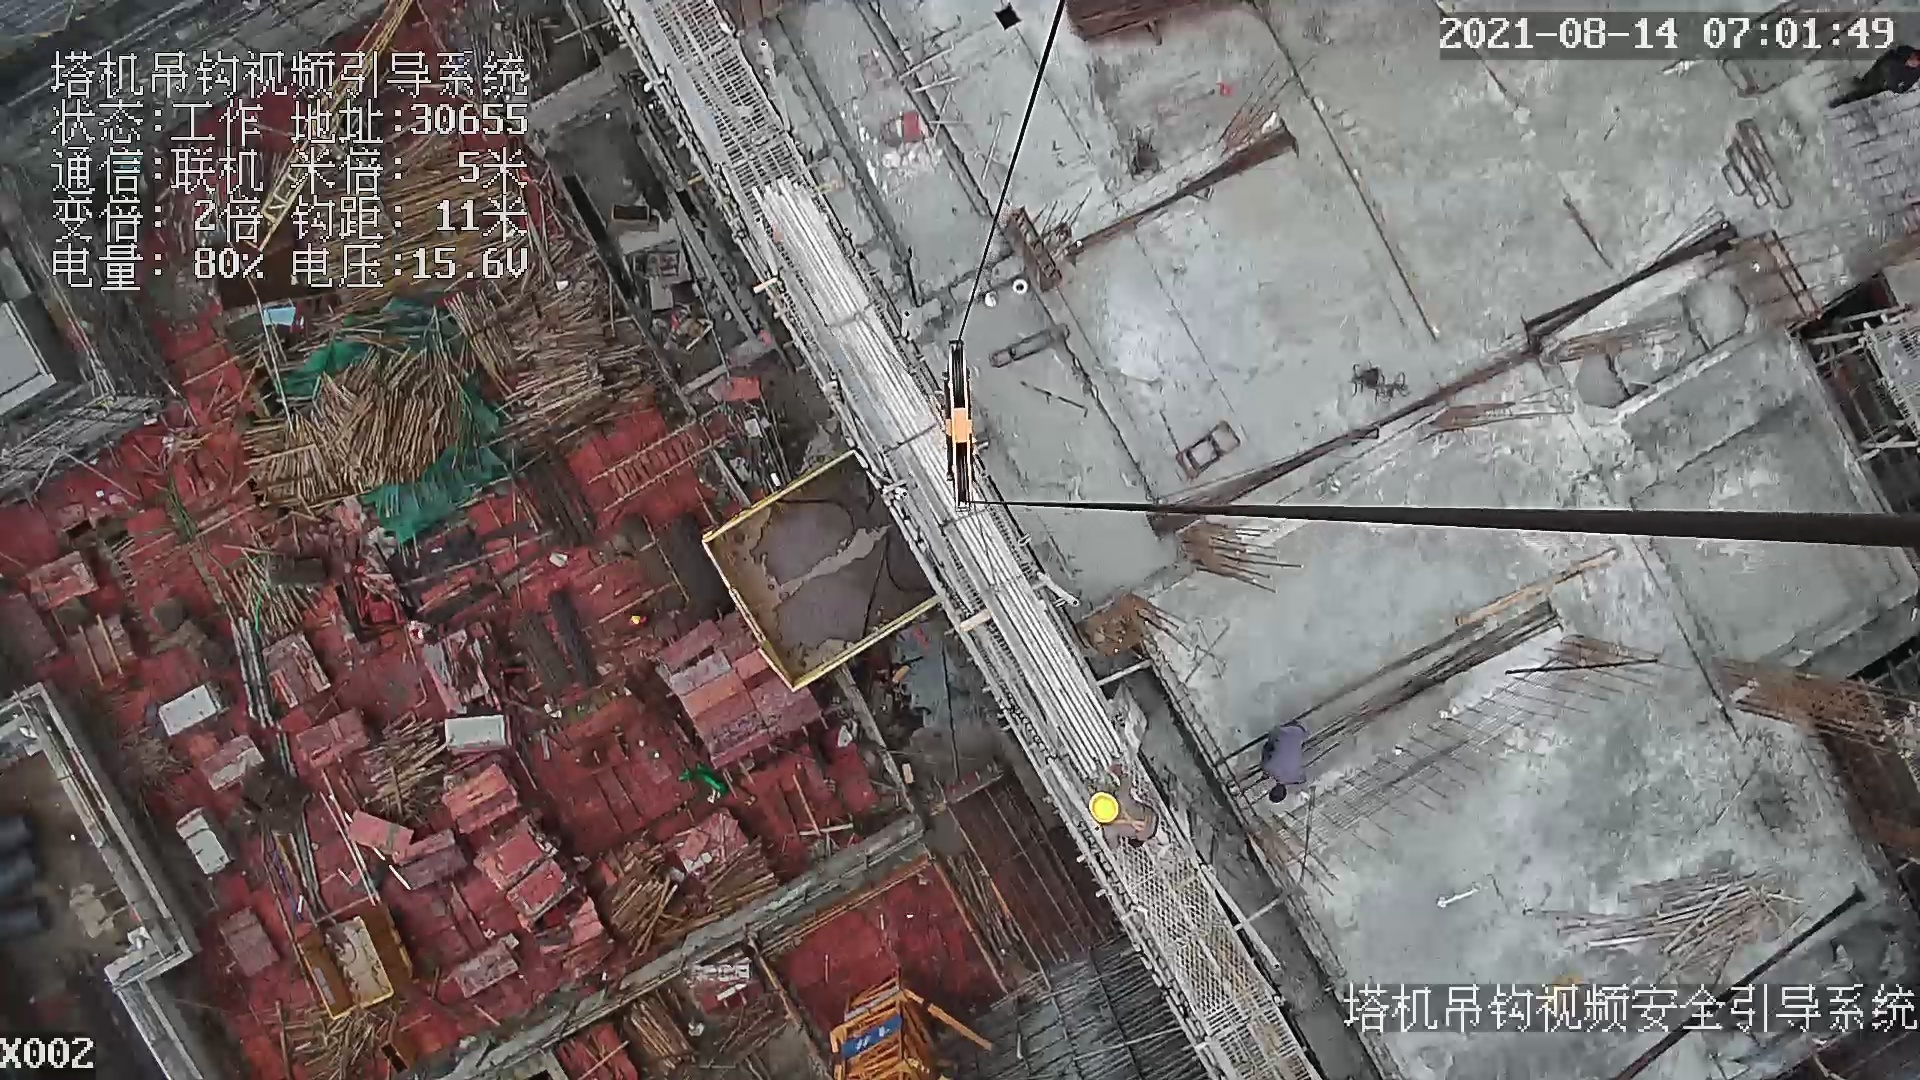helmet: (1087, 788, 1124, 826)
hook: (932, 336, 986, 513)
person: (1085, 764, 1158, 851), (1260, 721, 1313, 814)
